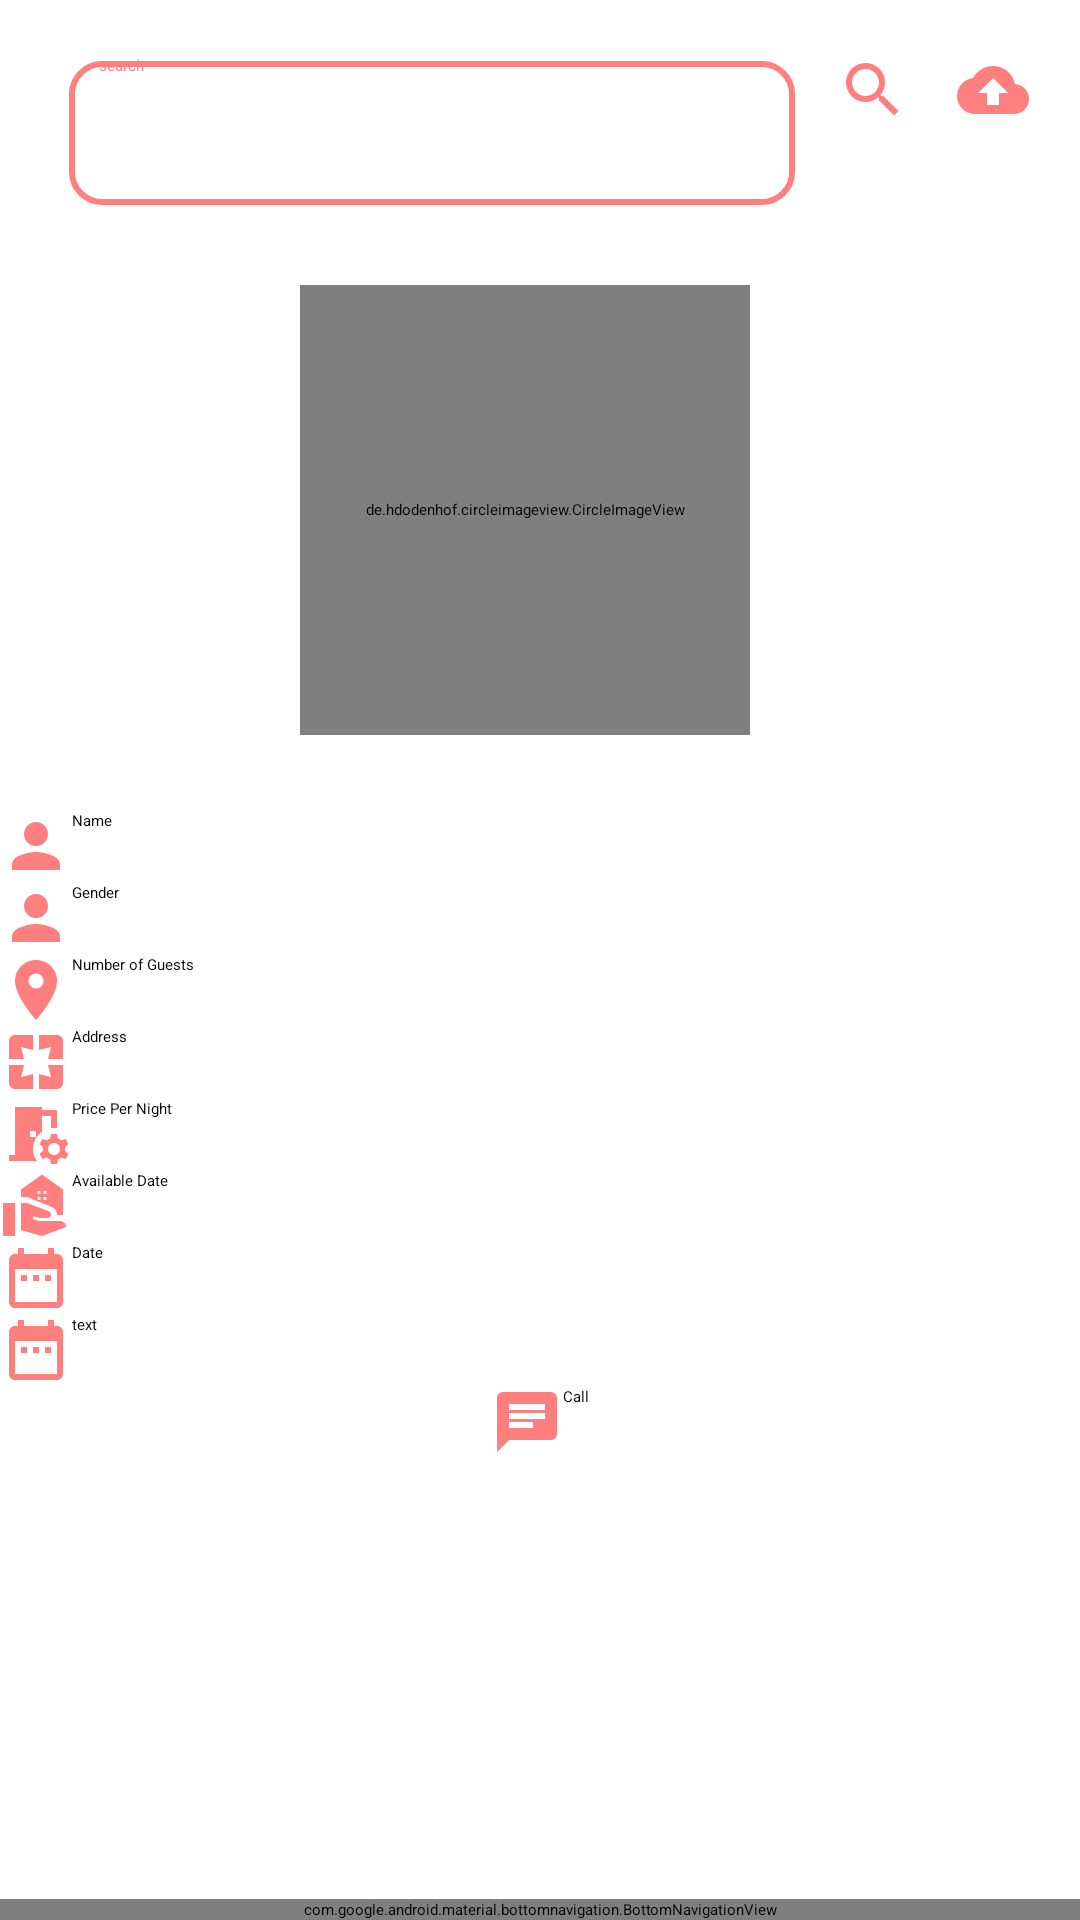

Screen size 1080*1920. Icon name, then its center in pixels as (x,y):
cloud upload: (993,90)
